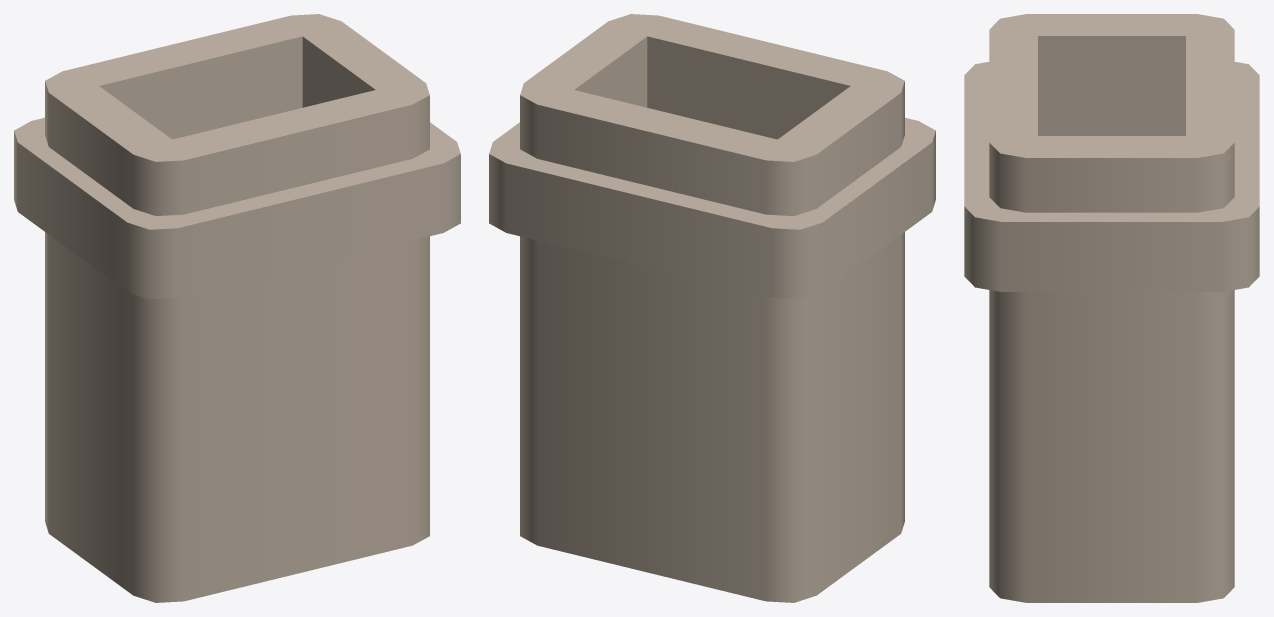
File: Fireplace_1_Chimney_End.fbx
3 views of the same model, side by side, from view 1: azimuth 30°, elevation 25°; view 2: azimuth 150°, elevation 25°; view 3: azimuth 270°, elevation 25° (orthographic).
Visible parts, largest first — view 1: Fireplace_1_Chimney_End_LOD0; view 2: Fireplace_1_Chimney_End_LOD0; view 3: Fireplace_1_Chimney_End_LOD0.
Part boxes in pixels (<box>): Fireplace_1_Chimney_End_LOD0: <box>14,14,460,602</box>; Fireplace_1_Chimney_End_LOD0: <box>489,14,935,602</box>; Fireplace_1_Chimney_End_LOD0: <box>964,14,1259,602</box>.
Bounding box in the file's own units: 78.27 × 100 × 60.22.
